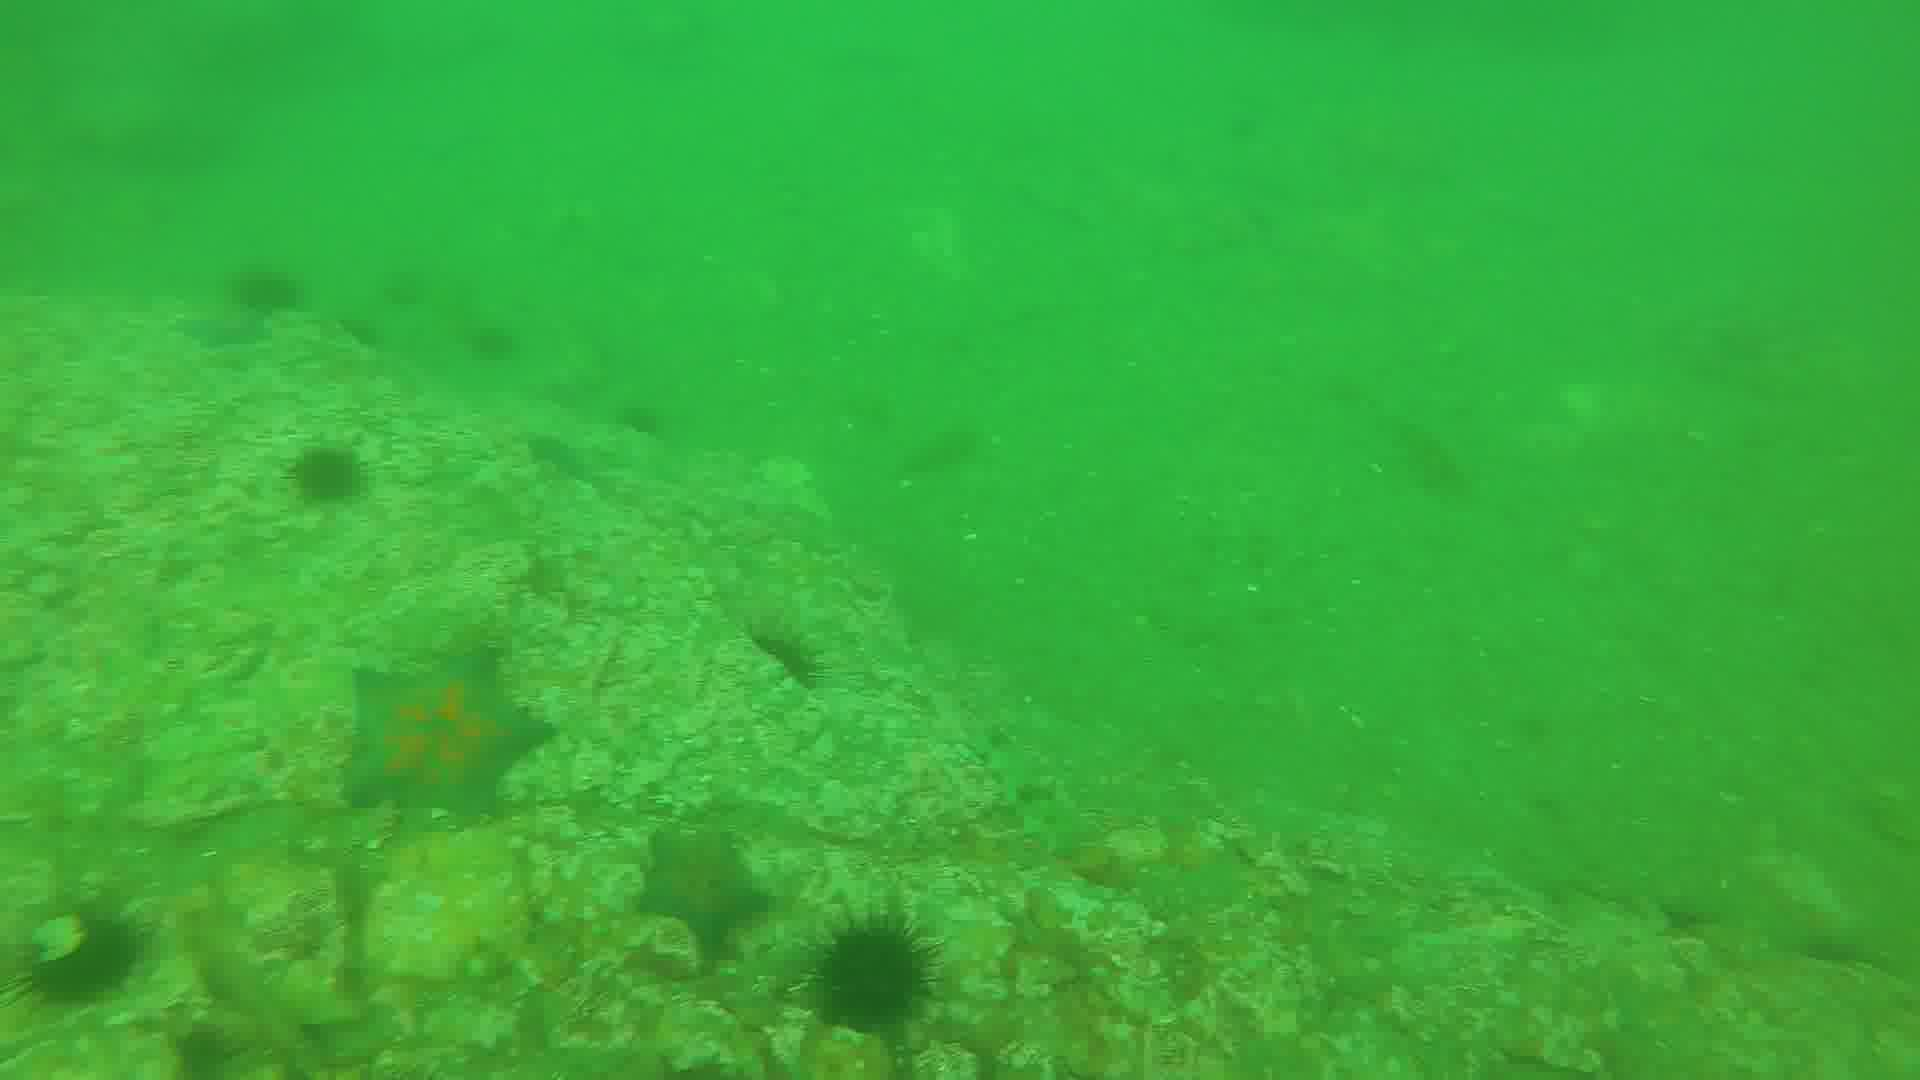echinus: (26, 902, 156, 1000), (822, 911, 942, 1013), (738, 618, 833, 715), (273, 434, 368, 516), (235, 273, 295, 320), (618, 405, 671, 446)
starfish: (339, 632, 549, 825), (637, 824, 764, 951), (179, 307, 260, 349)
